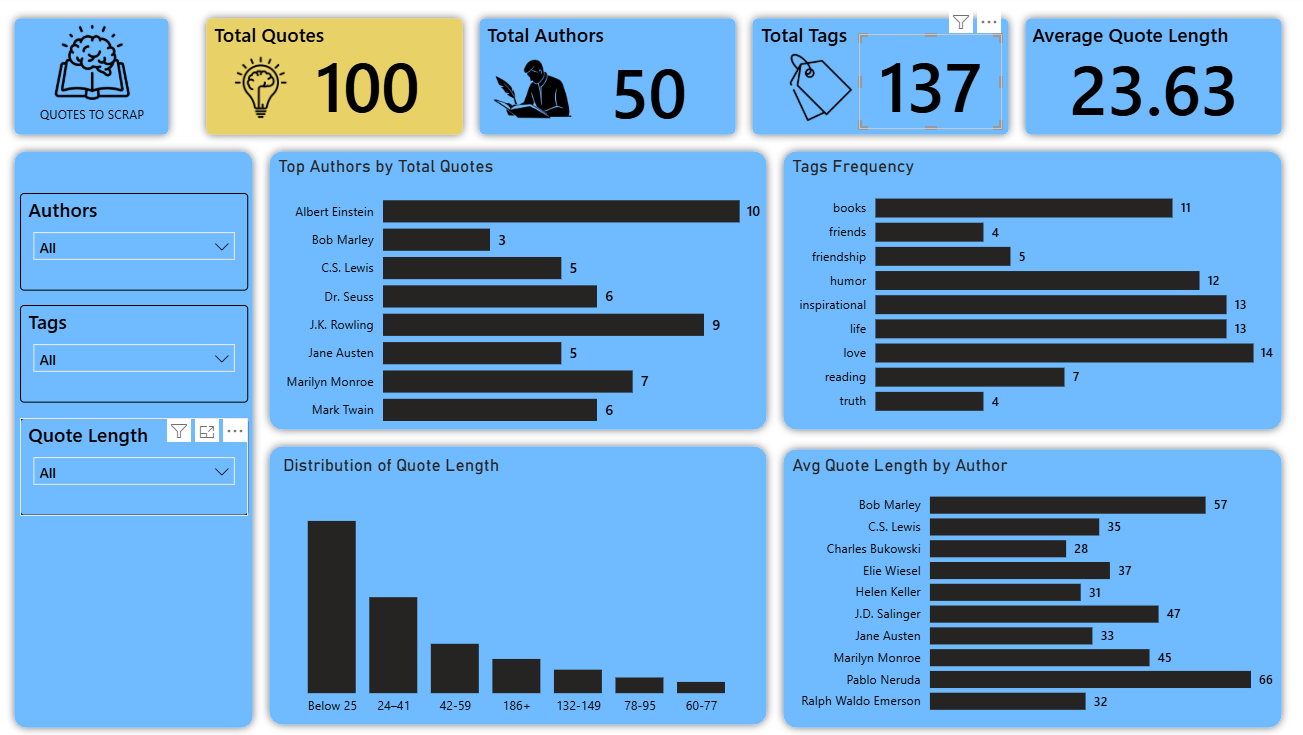

This screenshot's page, from the dashboard's own definition file:
{"tool":"powerbi","page":{"name":"Dashboard Overview","canvas":[1280,720],"ordinal":0},"visuals":[{"type":"shape","box":[997.9,13.6,265.5,129.4],"z":0},{"type":"shape","box":[732.4,13.6,265.5,129.4],"z":1000},{"type":"shape","box":[466.9,13.6,265.5,129.4],"z":2000},{"type":"shape","box":[201.3,13.6,265.5,129.4],"z":3000},{"type":"shape","box":[14.6,13.6,166.3,129.4],"z":4000},{"type":"shape","box":[762.6,143,500.9,286.9],"z":5000},{"type":"shape","box":[14.6,143,248,576.8],"z":6000},{"type":"shape","box":[262.6,143,499.9,286.9],"z":7000},{"type":"shape","box":[262.6,429.9,499.9,286.9],"z":8000},{"type":"shape","box":[762.6,432.8,500.9,286.9],"z":9000},{"type":"card","title":"Total Quotes","fields":{"Values":["Top 100 Scrapped Quotes Dataset.Total Quotes"]},"box":[296.7,37,139.1,92.4],"z":10000},{"type":"image","box":[179.9,42.8,165.3,92.4],"z":11000},{"type":"textbox","box":[212,19.5,124.5,44.7],"z":12000},{"type":"card","title":"Total Quotes","fields":{"Values":["Top 100 Scrapped Quotes Dataset.Total Authors"]},"box":[570,42.8,139.1,92.4],"z":13000},{"type":"textbox","box":[477.6,19.5,124.5,44.7],"z":14000},{"type":"image","box":[472.7,52.5,108,75.9],"z":15000},{"type":"image","box":[37.9,23.3,119.6,81.7],"z":16000},{"type":"textbox","box":[35,100.2,126.4,42.8],"z":17000},{"type":"card","title":"Total Quotes","fields":{"Values":["Top 100 Scrapped Quotes Dataset.Total Tags"]},"box":[844.3,37,139.1,92.4],"z":18000},{"type":"image","box":[762.6,54.5,88.5,69.1],"z":19000},{"type":"textbox","box":[744.1,19.5,124.5,44.7],"z":20000},{"type":"card","title":"Total Quotes","fields":{"Values":["Top 100 Scrapped Quotes Dataset.Avg Quote Length"]},"box":[1035.9,42.8,190.6,86.6],"z":21000},{"type":"textbox","box":[1007.7,19.5,219.8,44.7],"z":22000},{"type":"barChart","title":"Top Authors by Total Quotes","fields":{"Category":["Top 100 Scrapped Quotes Dataset.Author"],"Y":["Top 100 Scrapped Quotes Dataset.Total Quotes"]},"box":[274.3,155.6,478.5,274.3],"z":23000},{"type":"barChart","title":"Tags Frequency","fields":{"Category":["Tags Table.Tags"],"Y":["CountNonNull(Tags Table.Tags)"]},"box":[774.2,155.6,477.6,262.6],"z":24000},{"type":"barChart","fields":{"Category":["Summary Table.Author"],"Y":["Top 100 Scrapped Quotes Dataset.Avg Quote Length"]},"box":[774.2,446.4,477.6,261.6],"z":25000},{"type":"clusteredColumnChart","title":"Distribution of Quote Length ","fields":{"Category":["Top 100 Scrapped Quotes Dataset.Quote Length Group"],"Y":["Sum(Top 100 Scrapped Quotes Dataset.Quote_Length)"]},"box":[279.1,446.4,464.9,261.6],"z":26000},{"type":"slicer","title":"Authors","fields":{"Values":["Top 100 Scrapped Quotes Dataset.Author"]},"box":[28.2,191.6,221.8,95.3],"z":27000},{"type":"slicer","title":"Tags","fields":{"Values":["Tags Table.Tags"]},"box":[28.2,300.5,221.8,95.3],"z":28000},{"type":"slicer","title":"Quote Length","fields":{"Values":["Top 100 Scrapped Quotes Dataset.Quote Length Group"]},"box":[28.2,410.5,221.8,95.3],"z":29000}]}

Visuals, with their boxes in screenshot pixels (x1, y1, x2, y2), scaled from the page's 1280x720 canvas onto the 1303x735 screenshot:
shape: (x1=1016, y1=14, x2=1286, y2=146)
shape: (x1=746, y1=14, x2=1016, y2=146)
shape: (x1=475, y1=14, x2=746, y2=146)
shape: (x1=205, y1=14, x2=475, y2=146)
shape: (x1=15, y1=14, x2=184, y2=146)
shape: (x1=776, y1=146, x2=1286, y2=439)
shape: (x1=15, y1=146, x2=267, y2=734)
shape: (x1=267, y1=146, x2=776, y2=439)
shape: (x1=267, y1=439, x2=776, y2=732)
shape: (x1=776, y1=442, x2=1286, y2=734)
"Total Quotes" card: (x1=302, y1=38, x2=444, y2=132)
image: (x1=183, y1=44, x2=351, y2=138)
textbox: (x1=216, y1=20, x2=343, y2=66)
"Total Quotes" card: (x1=580, y1=44, x2=722, y2=138)
textbox: (x1=486, y1=20, x2=613, y2=66)
image: (x1=481, y1=54, x2=591, y2=131)
image: (x1=39, y1=24, x2=160, y2=107)
textbox: (x1=36, y1=102, x2=164, y2=146)
"Total Quotes" card: (x1=859, y1=38, x2=1001, y2=132)
image: (x1=776, y1=56, x2=866, y2=126)
textbox: (x1=757, y1=20, x2=884, y2=66)
"Total Quotes" card: (x1=1055, y1=44, x2=1249, y2=132)
textbox: (x1=1026, y1=20, x2=1250, y2=66)
"Top Authors by Total Quotes" barChart: (x1=279, y1=159, x2=766, y2=439)
"Tags Frequency" barChart: (x1=788, y1=159, x2=1274, y2=427)
barChart - Summary Table.Author x Top 100 Scrapped Quotes Dataset.Avg Quote Length: (x1=788, y1=456, x2=1274, y2=723)
"Distribution of Quote Length " clusteredColumnChart: (x1=284, y1=456, x2=757, y2=723)
"Authors" slicer: (x1=29, y1=196, x2=254, y2=293)
"Tags" slicer: (x1=29, y1=307, x2=254, y2=404)
"Quote Length" slicer: (x1=29, y1=419, x2=254, y2=516)
